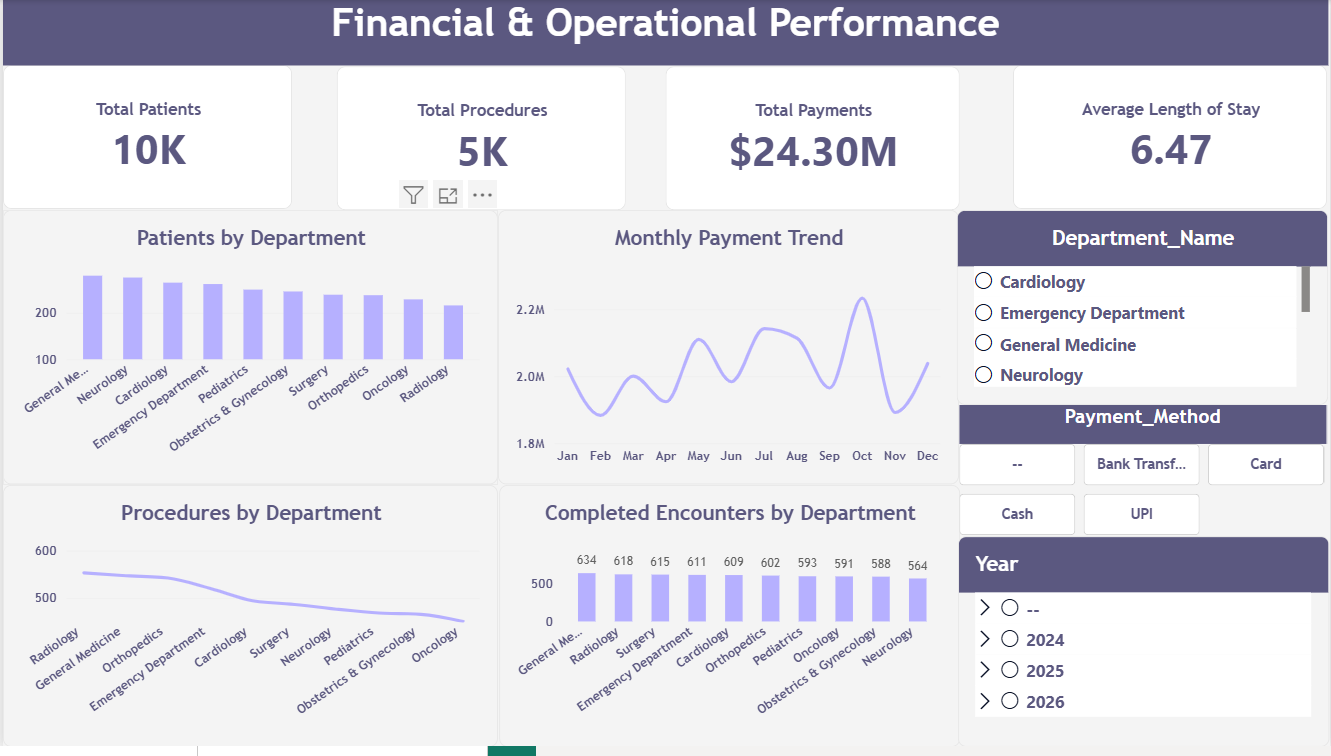

The dashboard page shown, as its layout file describes it:
{"tool":"powerbi","page":{"name":"Clinical & Operational Performance","canvas":[1280,720],"ordinal":1},"visuals":[{"type":"cardVisual","fields":{"Data":["Admissions.Total Patients"]},"box":[0,63.1,279.9,140],"z":0},{"type":"cardVisual","fields":{"Data":["Admissions.Total Payments"]},"box":[639.5,63.6,284.9,139.4],"z":1000},{"type":"cardVisual","fields":{"Data":["Admissions.Average Length of Stay"]},"box":[974.3,63.1,303.3,140],"z":2000},{"type":"cardVisual","fields":{"Data":["Admissions.Total Procedures"]},"box":[321.6,63.6,279.9,140],"z":3000},{"type":"clusteredColumnChart","title":"Patients by Department","fields":{"Category":["Departments.Department_Name"],"Y":["CountNonNull(Admissions.Patient_ID)"]},"box":[0,203.1,477.5,264.8],"z":4000},{"type":"lineChart","title":"Procedures by Department","fields":{"Category":["Departments.Department_Name"],"Y":["CountNonNull(Procedures.Procedure_ID)"]},"box":[0,467.9,477.5,252.5],"z":5000},{"type":"lineChart","title":"Monthly Payment Trend","fields":{"Category":["DateTable.Month Short"],"Y":["Admissions.Total Payments"]},"box":[477.5,203.1,444.6,264.8],"z":6000},{"type":"clusteredColumnChart","title":"Completed Encounters by Department","fields":{"Category":["Departments.Department_Name"],"Y":["Admissions.Completed Encounters"]},"box":[478.9,467.9,444.6,252.5],"z":6001},{"type":"listSlicer","fields":{"Values":["Departments.Department_Name"]},"box":[920.8,203.1,358.1,188],"z":6002},{"type":"advancedSlicerVisual","fields":{"Values":["Payments.Payment_Method"]},"box":[923.5,391.1,354,126.2],"z":6003},{"type":"listSlicer","fields":{"Values":["DateTable.Date.Variation.Date Hierarchy.Year","DateTable.Date.Variation.Date Hierarchy.Quarter","DateTable.Date.Variation.Date Hierarchy.Month","DateTable.Date.Variation.Date Hierarchy.Day"]},"box":[922.1,517.3,358.1,203.1],"z":6004},{"type":"textbox","box":[0,0,1278.9,63.1],"z":6005}]}

Visuals, with their boxes in screenshot pixels (x1, y1, x2, y2), scaled from the page's 1280x720 canvas onto the 1331x756 screenshot:
cardVisual - Admissions.Total Patients: (0,66,291,213)
cardVisual - Admissions.Total Payments: (665,67,961,213)
cardVisual - Admissions.Average Length of Stay: (1013,66,1329,213)
cardVisual - Admissions.Total Procedures: (334,67,625,214)
"Patients by Department" clusteredColumnChart: (0,213,497,491)
"Procedures by Department" lineChart: (0,491,497,755)
"Monthly Payment Trend" lineChart: (497,213,959,491)
"Completed Encounters by Department" clusteredColumnChart: (498,491,960,755)
listSlicer - Departments.Department_Name: (957,213,1330,411)
advancedSlicerVisual - Payments.Payment_Method: (960,411,1328,543)
listSlicer - DateTable.Date.Variation.Date Hierarchy.Year x DateTable.Date.Variation.Date Hierarchy.Quarter: (959,543,1330,755)
textbox: (0,0,1330,66)
